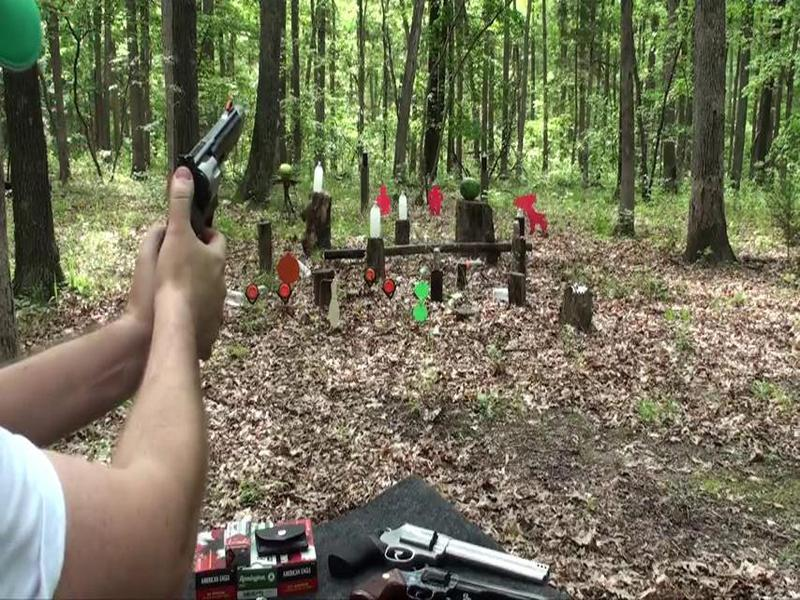Revolver: (147, 74, 259, 295)
